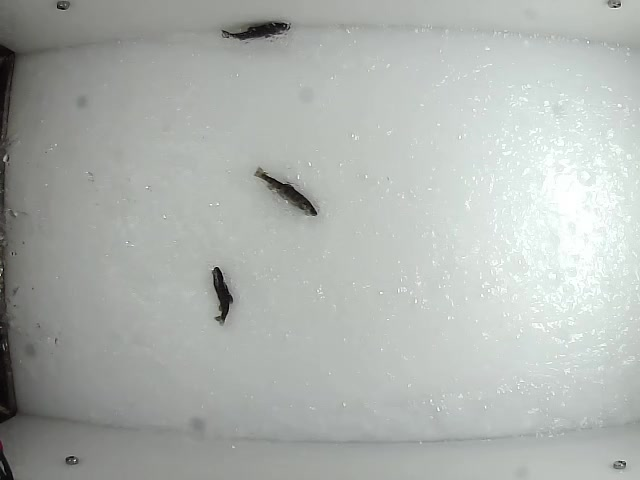fish: (252, 166, 320, 219), (217, 21, 292, 44), (209, 266, 233, 326)
